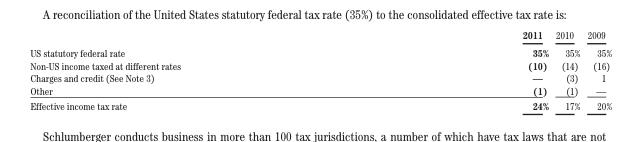table: (29, 28, 611, 111)
table column: (29, 28, 350, 111), (350, 28, 551, 111), (551, 28, 583, 111), (583, 28, 611, 111)
table column header: (29, 28, 611, 43)
table row: (29, 28, 611, 43), (29, 43, 611, 58), (29, 83, 611, 97), (29, 97, 611, 111), (29, 58, 611, 71), (29, 71, 611, 83)
